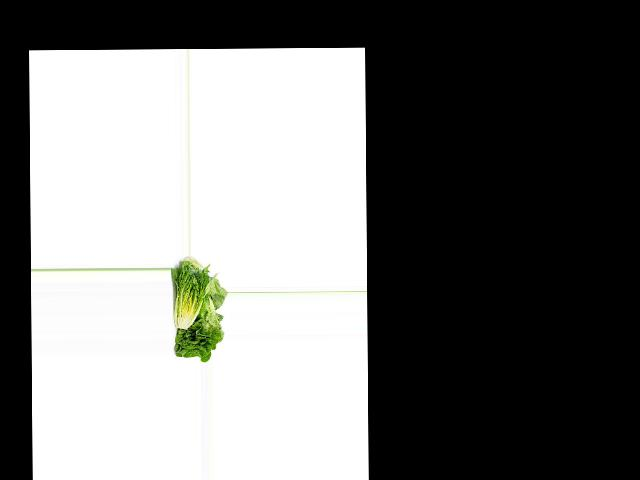lettuce: (170, 298, 224, 360)
